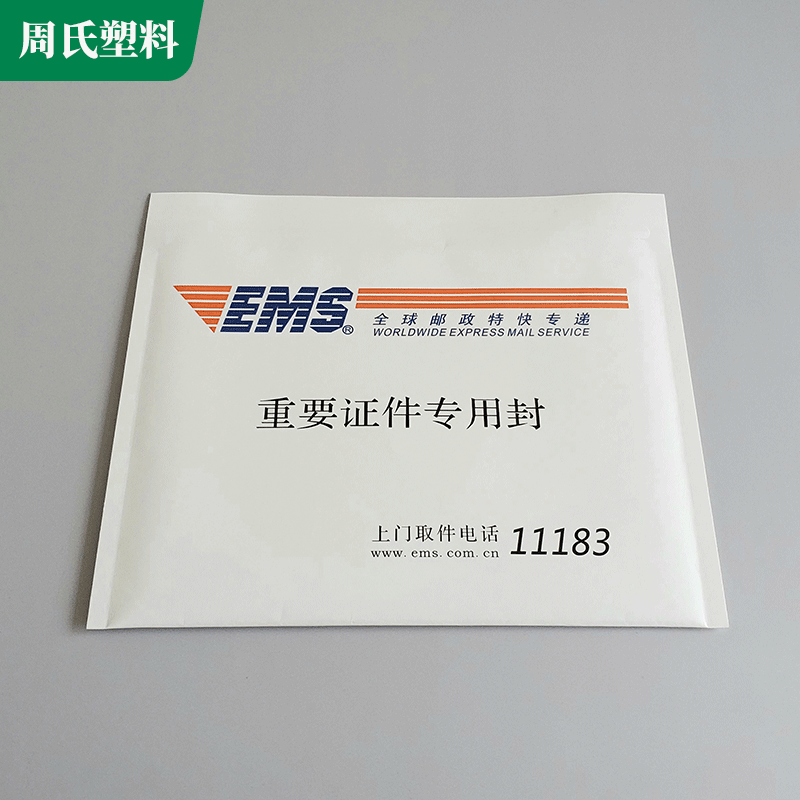塑料袋: (87, 194, 727, 628)
